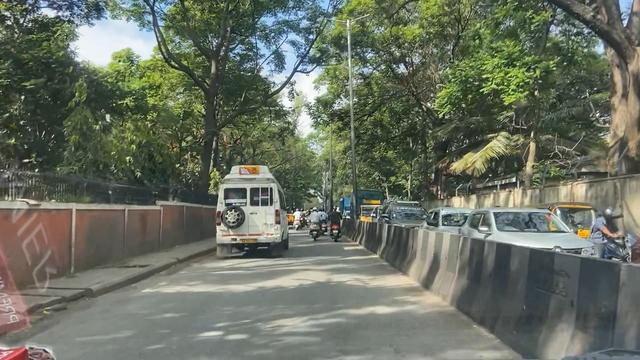HMV: (218, 164, 286, 247)
LMV: (330, 207, 347, 246)
